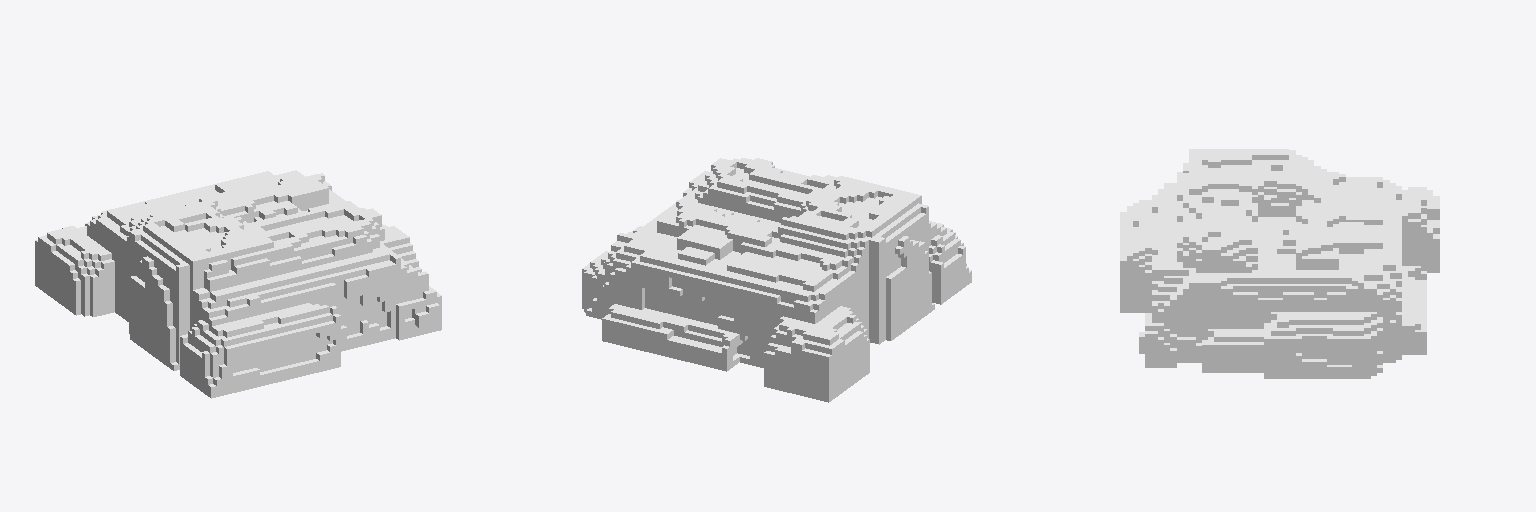
The model's file is GoldRock.obj.
3 views of the same model, side by side, from view 1: azimuth 30°, elevation 25°; view 2: azimuth 150°, elevation 25°; view 3: azimuth 270°, elevation 25° (orthographic).
Parts seen in each view (by area): view 1: object 1; view 2: object 1; view 3: object 1.
Boxes of the visible parts, box(x1,y1,x2,y2) form: object 1: box(35, 170, 441, 398); object 1: box(582, 158, 971, 402); object 1: box(1120, 149, 1439, 378).
Size of the model in its own units: 5.2 by 1.9 by 5.1.